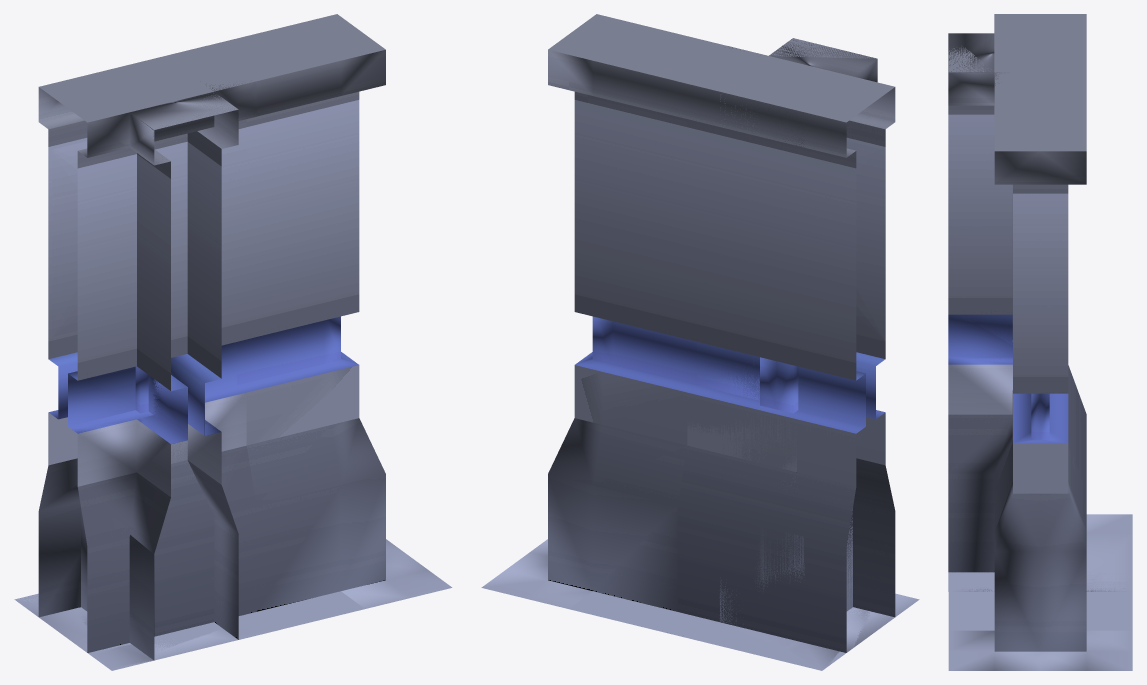
File: wall-cap.glb
3 views of the same model, side by side, from view 1: azimuth 30°, elevation 25°; view 2: azimuth 150°, elevation 25°; view 3: azimuth 270°, elevation 25° (orthographic). The views are drawn at different scales.
Visible parts, largest first — view 1: wall-cap, wall-T, wall-window, wall-corner, wall, wall-pillar; view 2: wall-cap, wall-window, wall, wall-corner, wall-pillar, wall-T; view 3: wall-cap, wall-T, wall-corner, wall-window, wall.
Part boxes in pixels (<box>): wall-cap: <box>208,14,452,629</box>; wall-T: <box>16,80,273,668</box>; wall-window: <box>26,45,280,669</box>; wall-corner: <box>14,46,279,669</box>; wall: <box>16,48,254,602</box>; wall-pillar: <box>16,83,277,670</box>; wall-cap: <box>481,14,725,629</box>; wall-window: <box>653,45,895,669</box>; wall: <box>680,50,895,613</box>; wall-corner: <box>653,38,919,670</box>; wall-pillar: <box>720,99,869,669</box>; wall-T: <box>667,38,911,632</box>; wall-cap: <box>948,91,1132,670</box>; wall-T: <box>948,14,1114,591</box>; wall-corner: <box>948,47,1132,591</box>; wall-window: <box>948,14,1132,591</box>; wall: <box>994,14,1086,461</box>.
Size of the model in its own units: 2.02 by 3 by 1.
10 materials, 10 textured.
